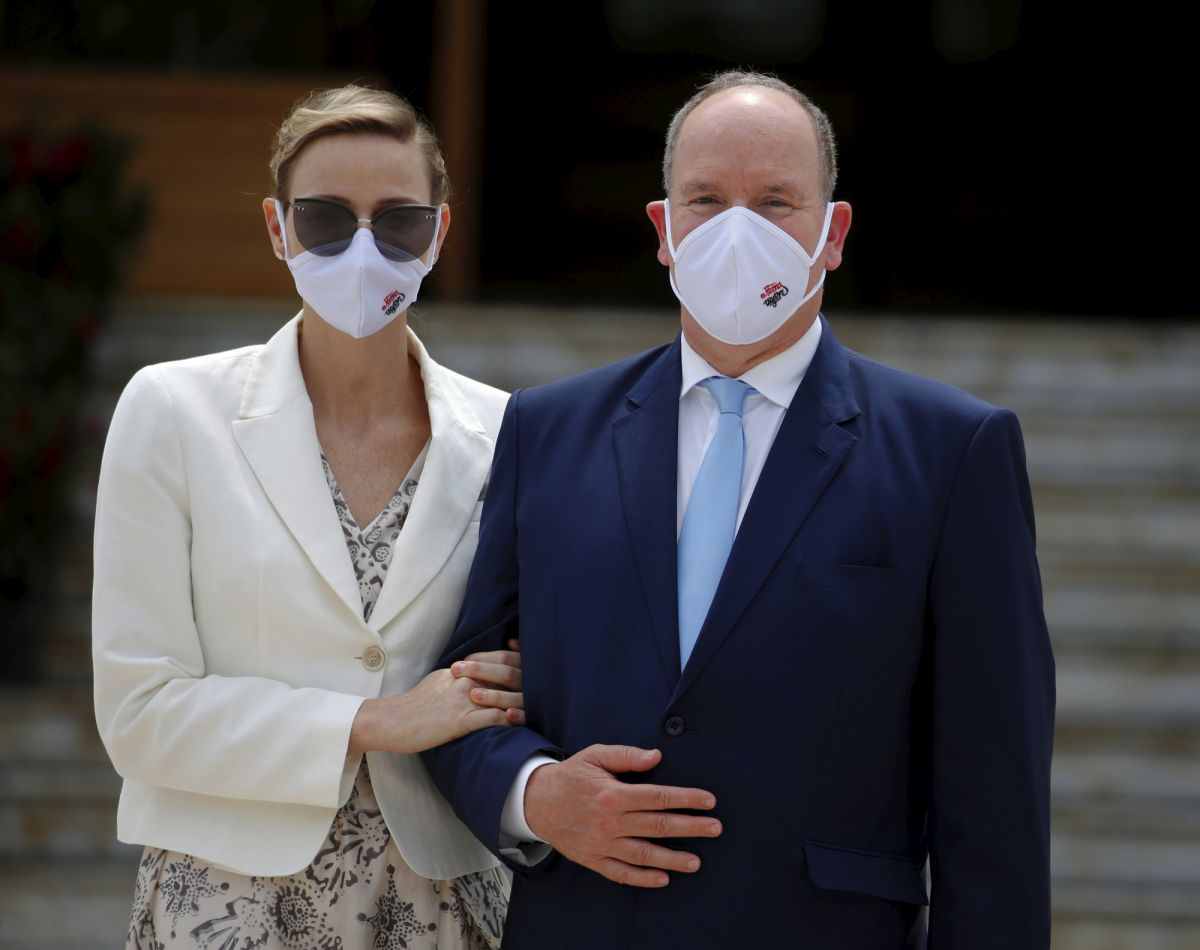with_mask: (673, 147, 817, 351), (284, 153, 428, 321)
